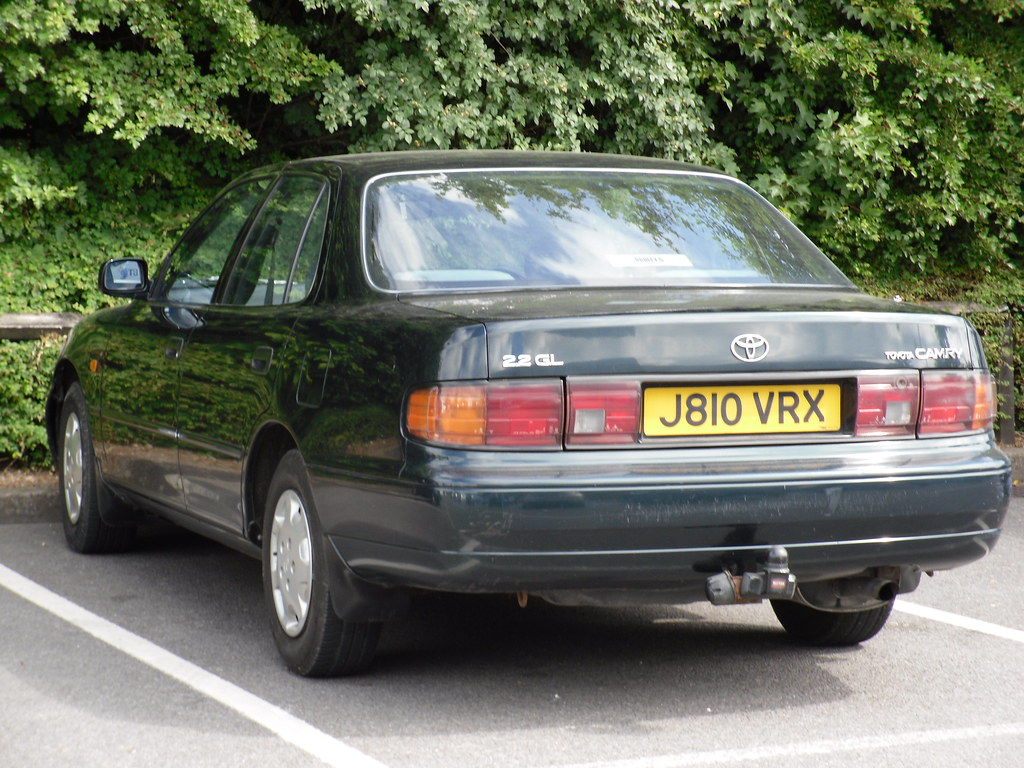car: (33, 144, 1016, 680)
